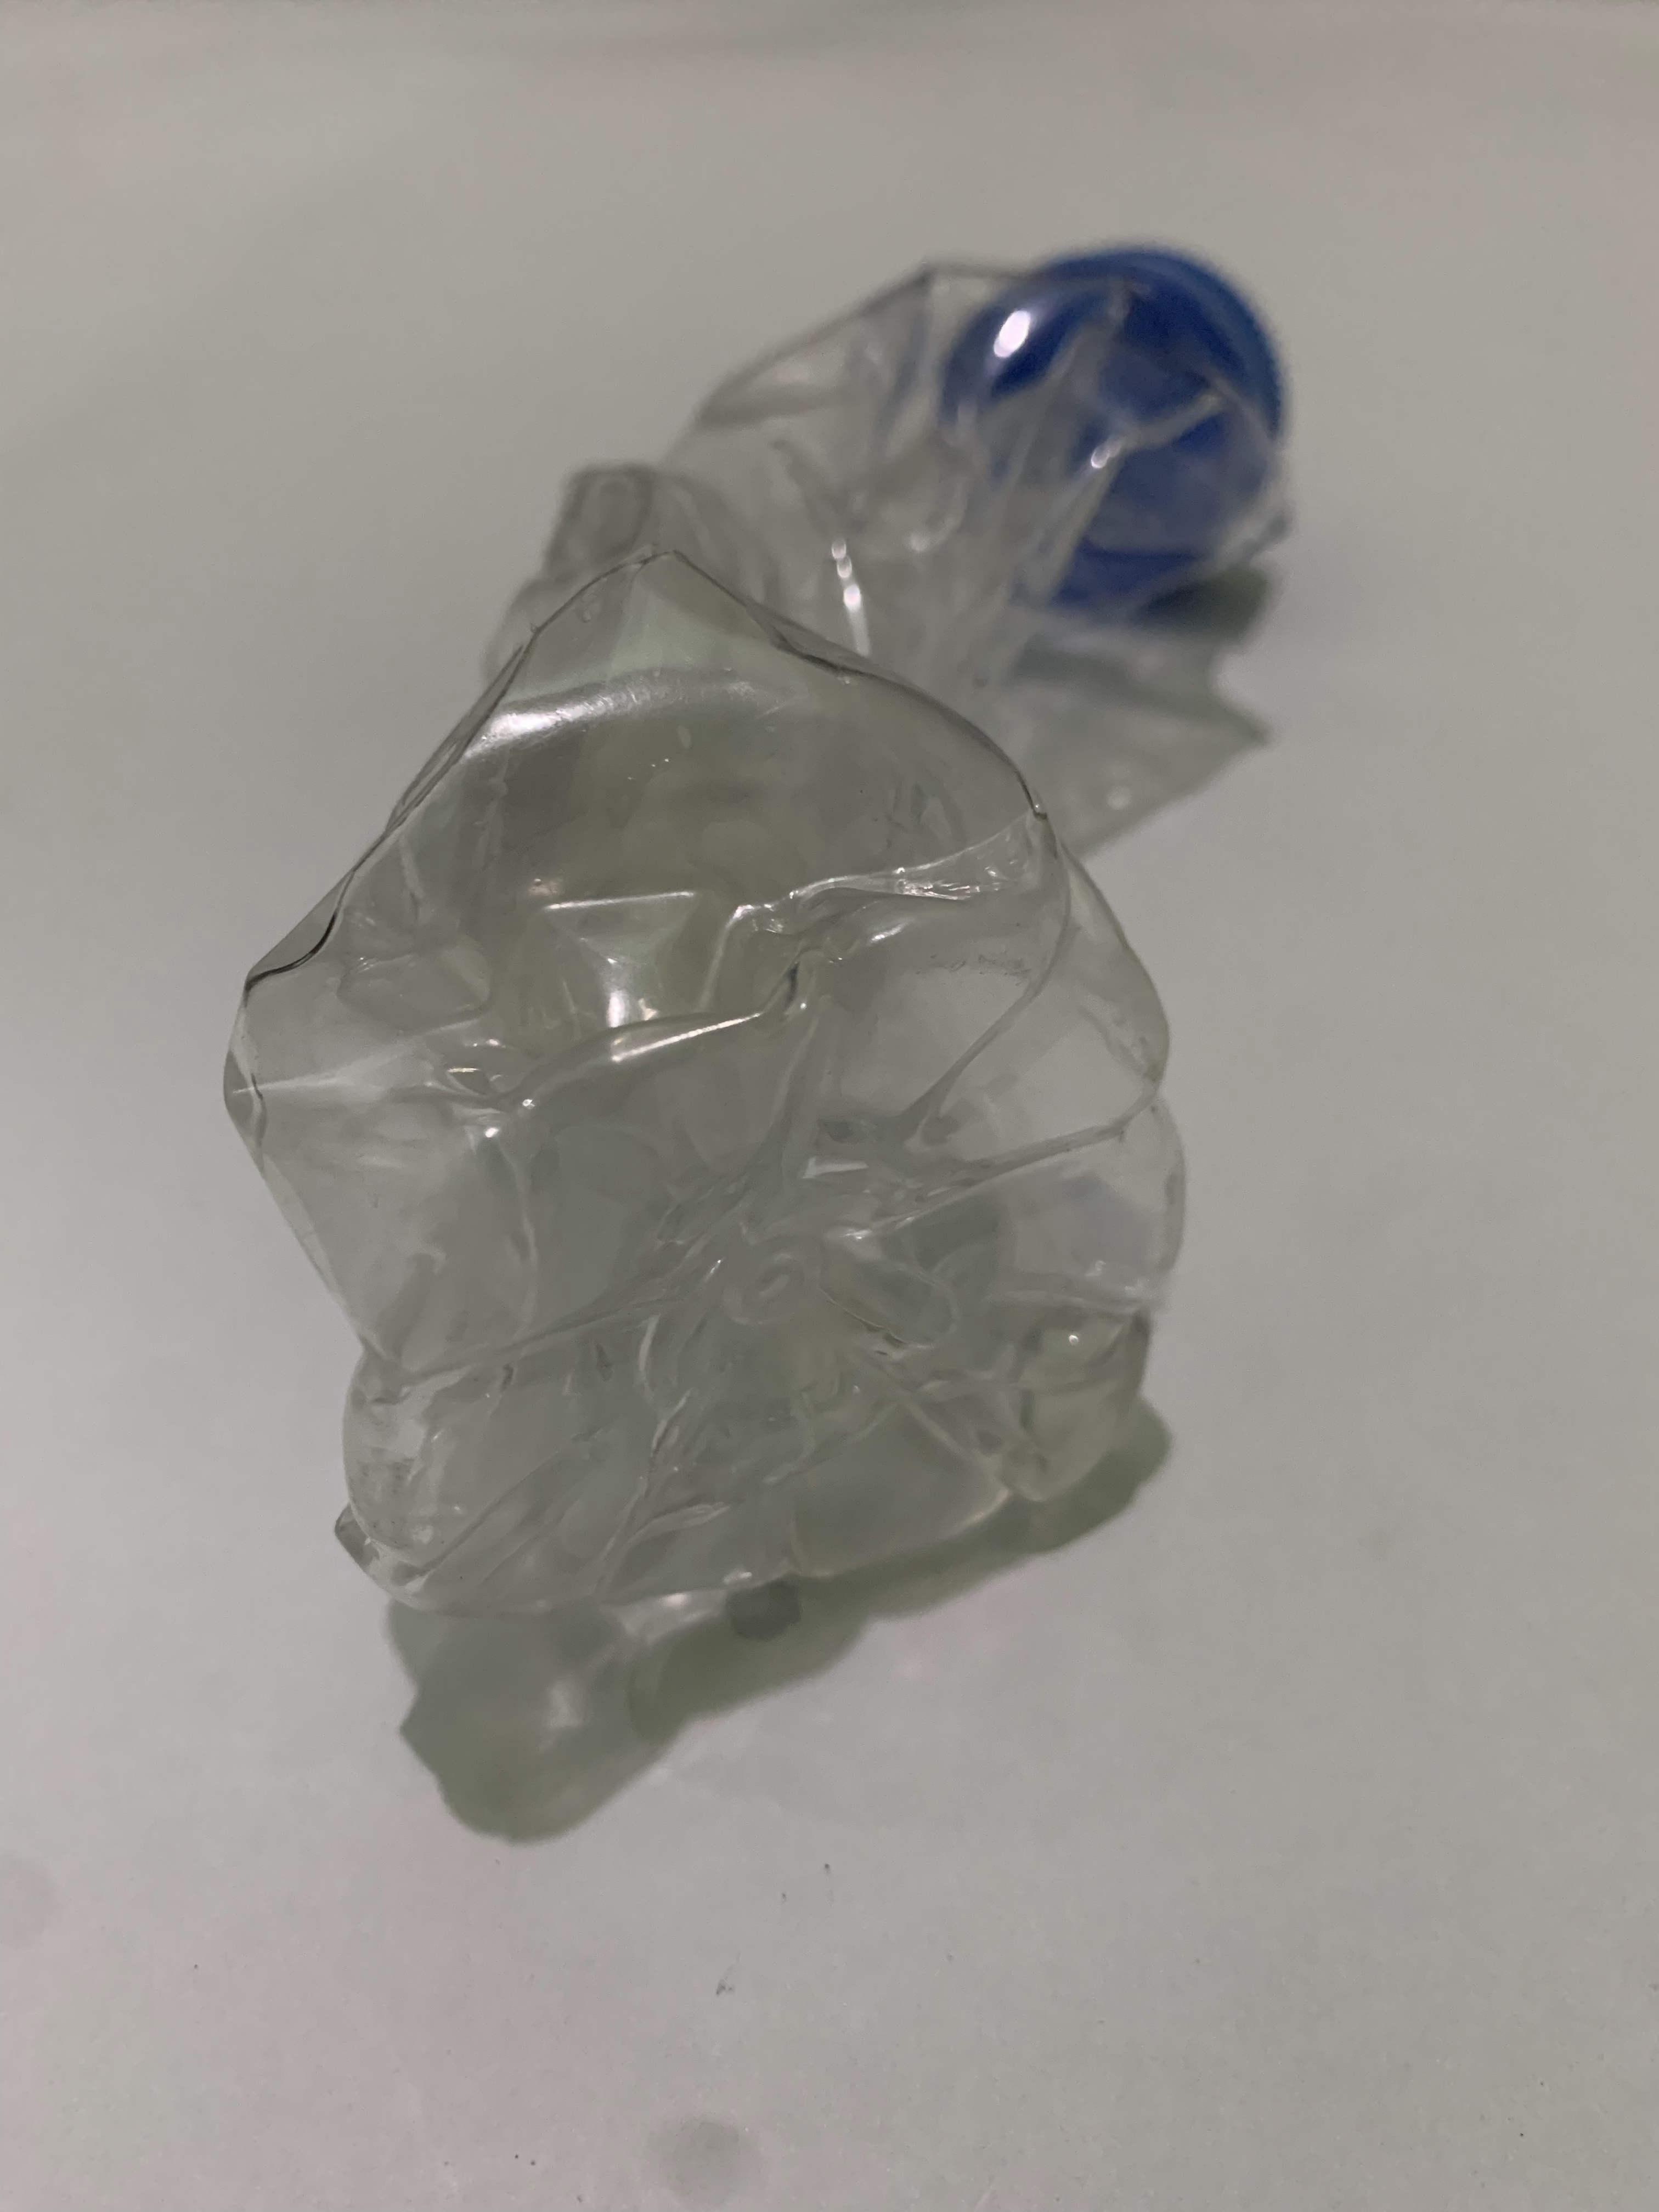bottle: (261, 235, 1270, 1700)
